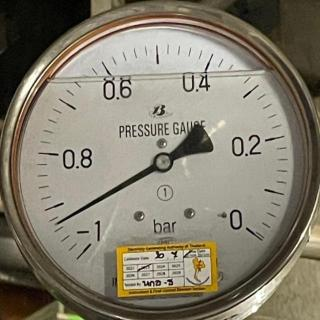gauge: (0, 0, 320, 320), (67, 216, 113, 268), (232, 217, 268, 255), (153, 151, 175, 173), (51, 215, 65, 229)
